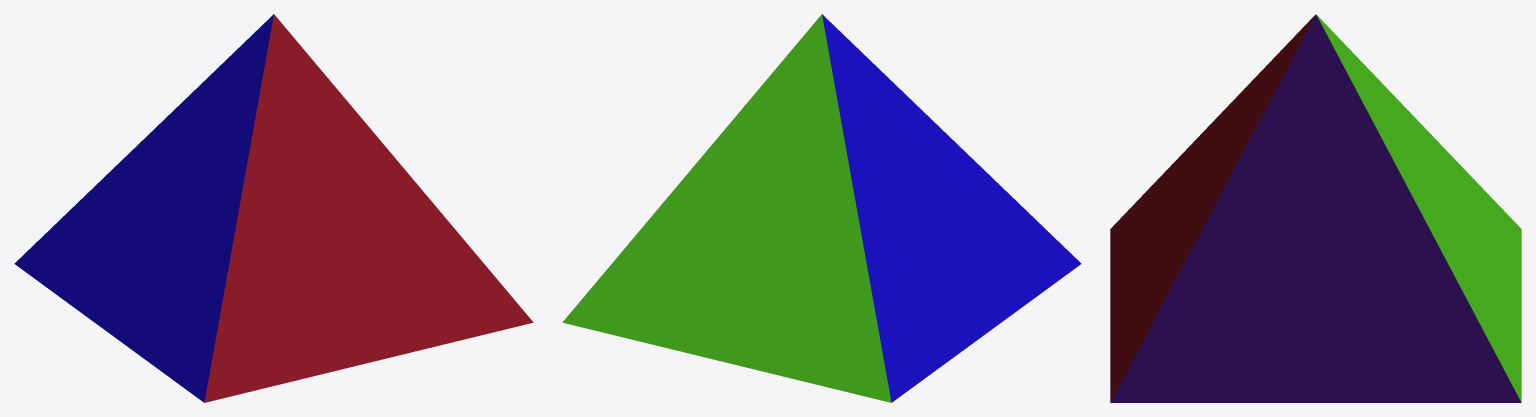
Rendered from Meshtools_04.fbx.
The picture shows the model from 3 angles, left to right: view 1: azimuth 30°, elevation 25°; view 2: azimuth 150°, elevation 25°; view 3: azimuth 270°, elevation 25°; orthographic projection. The views are drawn at different scales.
Parts seen in each view (by area): view 1: Pyramid001; view 2: Pyramid001; view 3: Pyramid001.
Part boxes in pixels (x1,y1,x2,y2): Pyramid001: (14, 14, 533, 402); Pyramid001: (562, 14, 1081, 402); Pyramid001: (1110, 14, 1521, 402).
Bounding box in the file's own units: 47.1 × 47.1 × 38.16.
